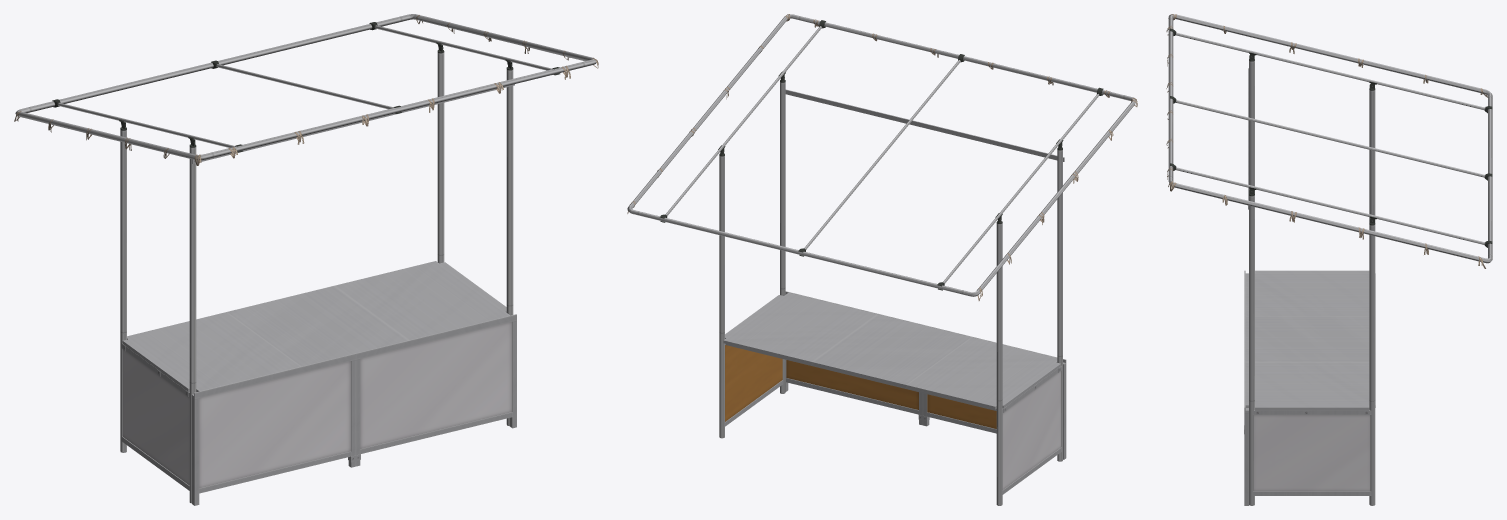
Rendered from jsf_4P_s02_c04_t01.fbx.
3 renders of one model, left to right at view 1: azimuth 30°, elevation 25°; view 2: azimuth 150°, elevation 25°; view 3: azimuth 270°, elevation 25°, orthographic. The views are drawn at different scales.
Visible parts, largest first — view 1: Base_s02_c04, Table_4P_s02_t01, Pillar4_s02, Rope_4P_s02; view 2: Table_4P_s02_t01, Pillar4_s02, Base_s02_c04, Rope_4P_s02; view 3: Table_4P_s02_t01, Pillar4_s02, Base_s02_c04, Rope_4P_s02.
Boxes of the visible parts, x1,y1,x2,y2 form: Base_s02_c04: (121,314,516,505); Table_4P_s02_t01: (122,261,509,396); Pillar4_s02: (15,14,596,503); Rope_4P_s02: (14,15,598,165); Table_4P_s02_t01: (723,292,1061,412); Pillar4_s02: (627,14,1136,505); Base_s02_c04: (725,291,1066,494); Rope_4P_s02: (627,14,1137,300); Table_4P_s02_t01: (1245,270,1375,414); Pillar4_s02: (1168,14,1492,505); Base_s02_c04: (1244,270,1371,505); Rope_4P_s02: (1166,14,1487,268).
Bounding box in the file's own units: 264 × 243 × 211.
